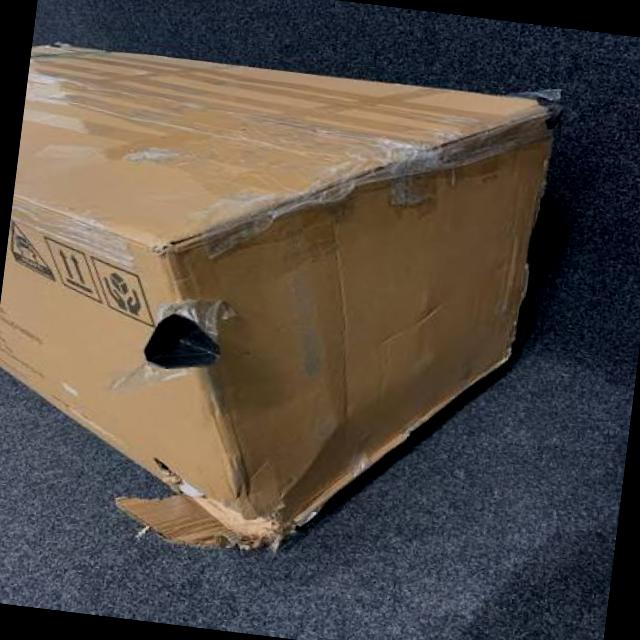handle_with_care_label: (87, 258, 166, 320)
package_damage: (110, 440, 324, 577)
this_side_up_label: (36, 236, 108, 297)
